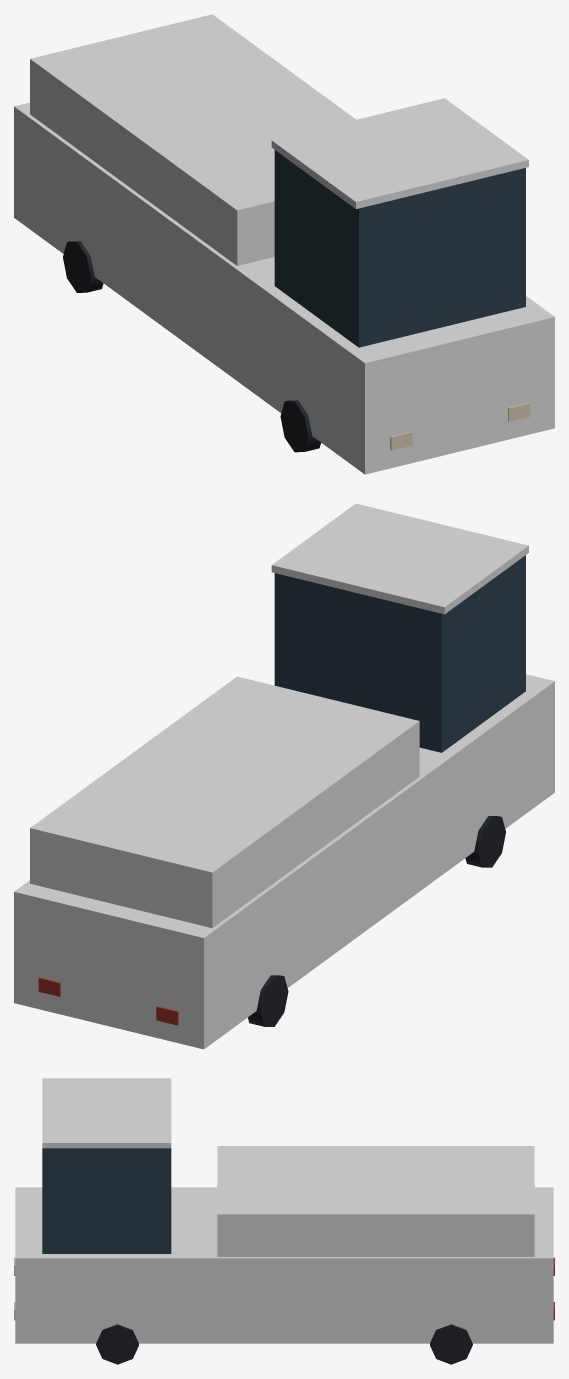
The model's file is veh_truck_2.eb6eca918794.glb.
3 renders of one model, top to bottom at view 1: azimuth 30°, elevation 25°; view 2: azimuth 150°, elevation 25°; view 3: azimuth 270°, elevation 25°, orthographic. The views are drawn at different scales.
Visible parts, largest first — view 1: LOD0; view 2: LOD0; view 3: LOD0.
Boxes of the visible parts, x1,y1,x2,y2 form: LOD0: [14, 14, 554, 474]; LOD0: [14, 503, 554, 1049]; LOD0: [14, 1078, 554, 1364].
Size of what is drawn, in the model's own units: 2.6 by 3.56 by 8.04.
